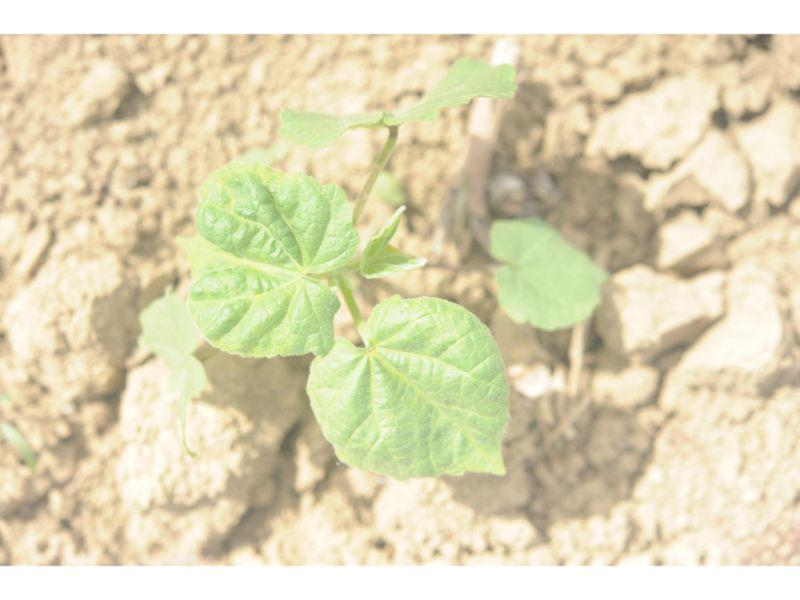velvet: (179, 52, 604, 478)
